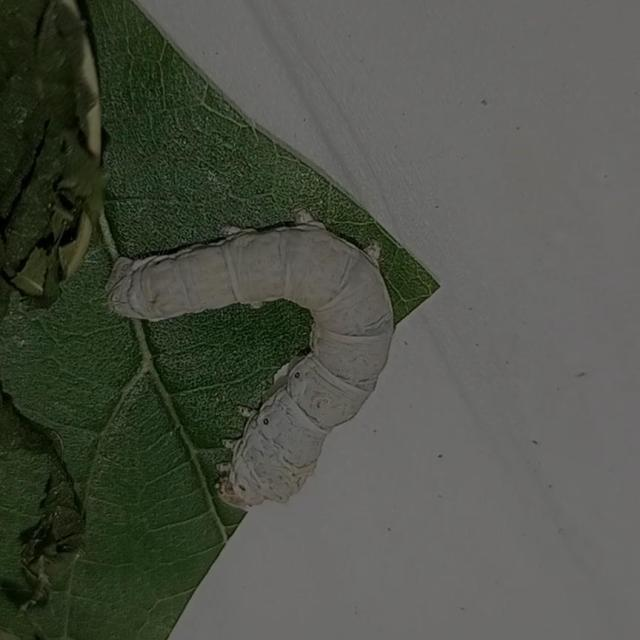Healthy: (92, 197, 428, 538)
